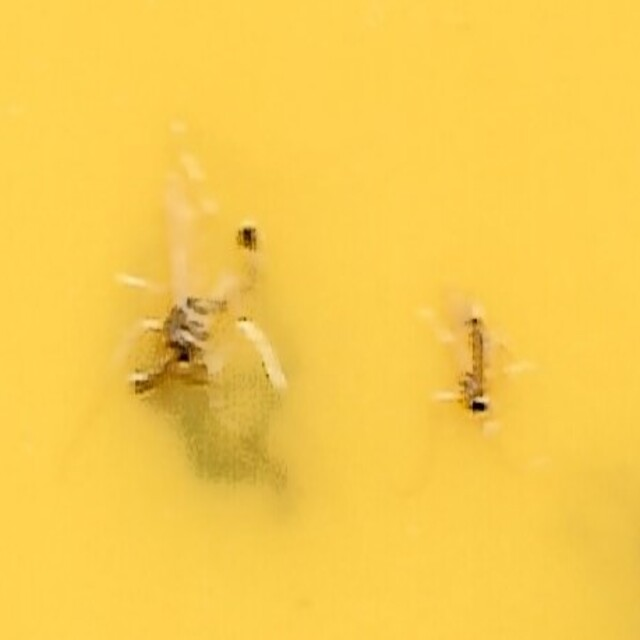Nematocera: (139, 204, 271, 405), (445, 309, 501, 436)
